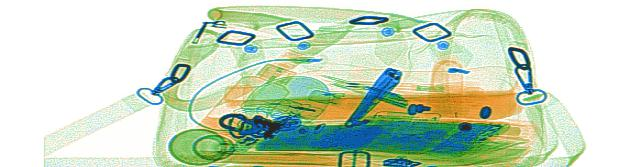plasticBottleWithaNozzle: (195, 50, 302, 143)
